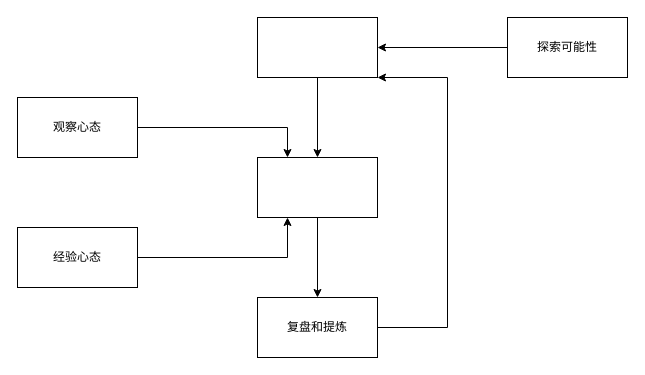
The diagram is 645 pixels wide and 375 high, and some of its shapes have lost their labels. Here are the shapes that lost their labels. From the top down, the centre of each, then its label:
At (317,47): "问题与假设".
At (317,187): "尝试与对照".
